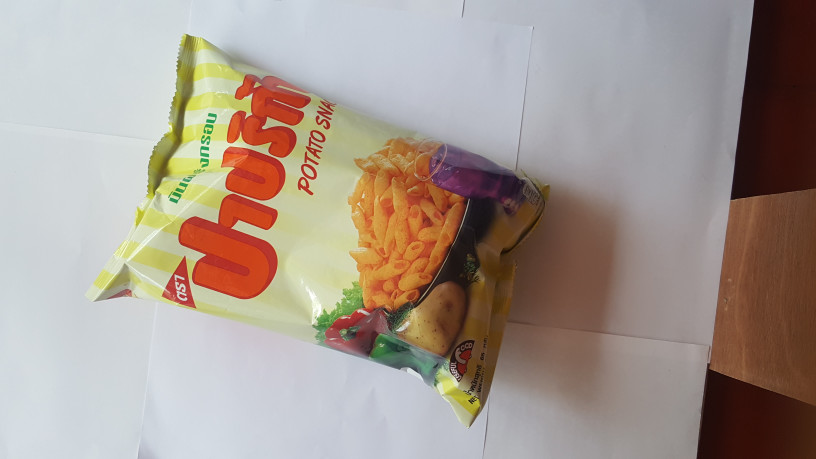paprika: (84, 31, 554, 422)
